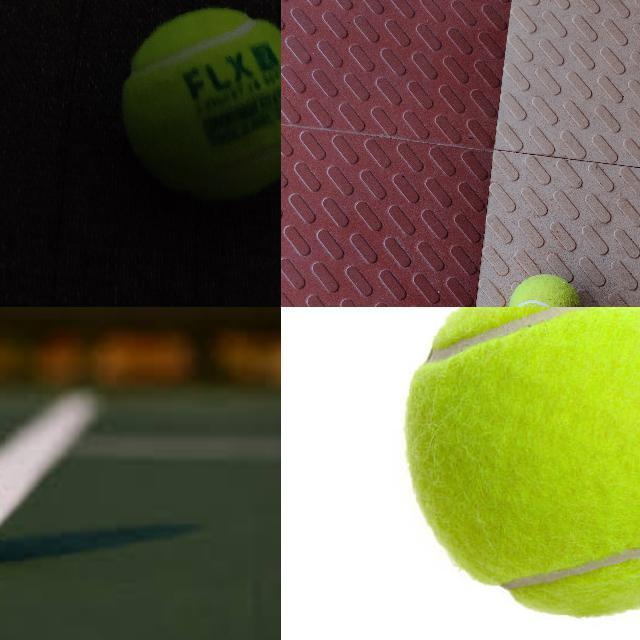tennis-ball: (404, 307, 639, 618), (120, 7, 280, 201), (508, 273, 582, 306)
